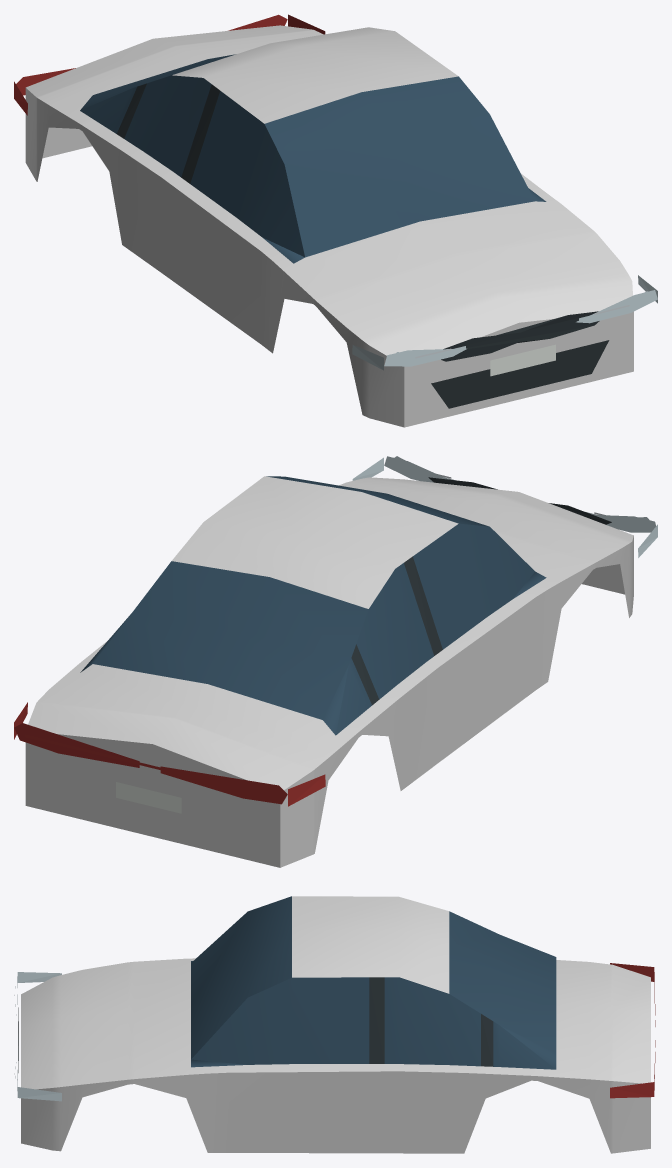
The model's file is veh_k3-lod2.glb.
3 views of the same model, one above another, from view 1: azimuth 30°, elevation 25°; view 2: azimuth 150°, elevation 25°; view 3: azimuth 270°, elevation 25° (orthographic). The views are drawn at different scales.
Visible parts, largest first — view 1: paint, glass, trim, head, tail, plate; view 2: paint, glass, tail, trim, head, plate; view 3: paint, glass, trim, tail, head.
Part boxes in pixels (bbox=[...]): paint: bbox=[25, 25, 633, 427]; glass: bbox=[80, 54, 546, 263]; trim: bbox=[117, 83, 609, 408]; head: bbox=[352, 275, 657, 370]; tail: bbox=[14, 14, 325, 115]; plate: bbox=[490, 344, 555, 376]; paint: bbox=[25, 476, 633, 867]; glass: bbox=[80, 476, 546, 735]; tail: bbox=[14, 702, 325, 806]; trim: bbox=[351, 477, 611, 705]; head: bbox=[352, 456, 657, 557]; plate: bbox=[116, 782, 181, 813]; paint: bbox=[21, 896, 650, 1153]; glass: bbox=[191, 896, 556, 1069]; trim: bbox=[18, 977, 493, 1072]; tail: bbox=[610, 963, 655, 1098]; head: bbox=[15, 972, 61, 1101].
Bounding box in the file's own units: 1.37 × 0.845 × 2.98.
